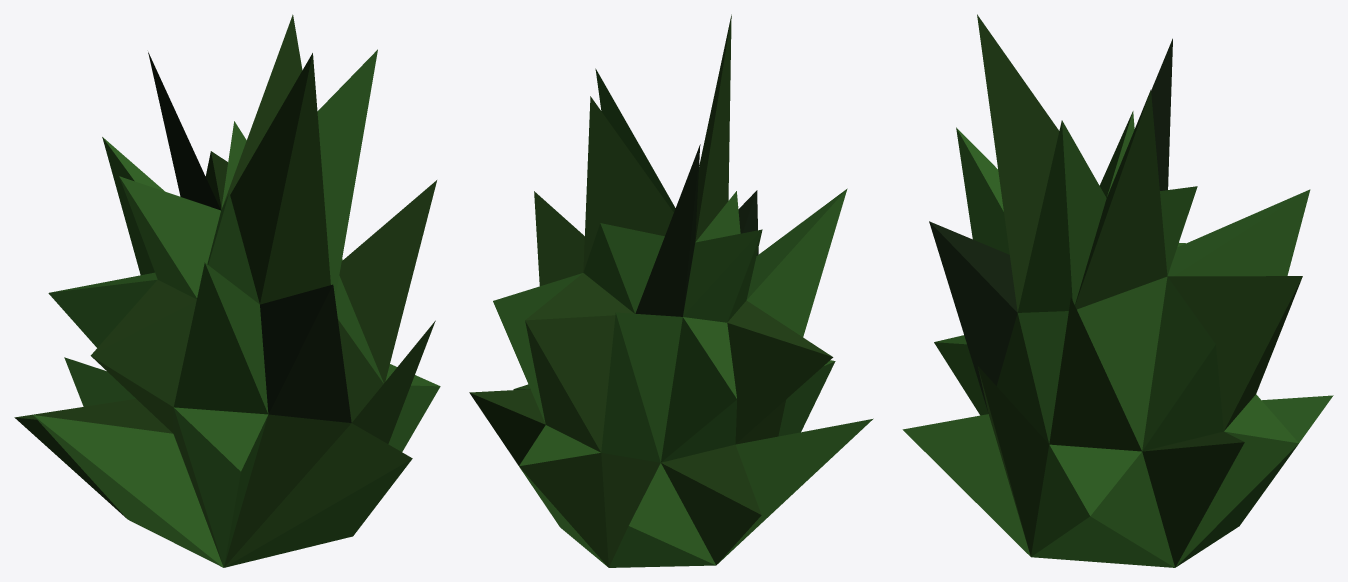
File: Tree3_M1_1_small.fbx
The picture shows the model from 3 angles, left to right: view 1: azimuth 30°, elevation 25°; view 2: azimuth 150°, elevation 25°; view 3: azimuth 270°, elevation 25°; orthographic projection. The views are drawn at different scales.
Parts seen in each view (by area): view 1: Tree3_M1_1_small; view 2: Tree3_M1_1_small; view 3: Tree3_M1_1_small.
Boxes of the visible parts, <box> form: Tree3_M1_1_small: <box>14,14,440,567</box>; Tree3_M1_1_small: <box>469,14,873,567</box>; Tree3_M1_1_small: <box>902,14,1333,567</box>.
Bounding box in the file's own units: 48.69 × 59.84 × 45.78.
